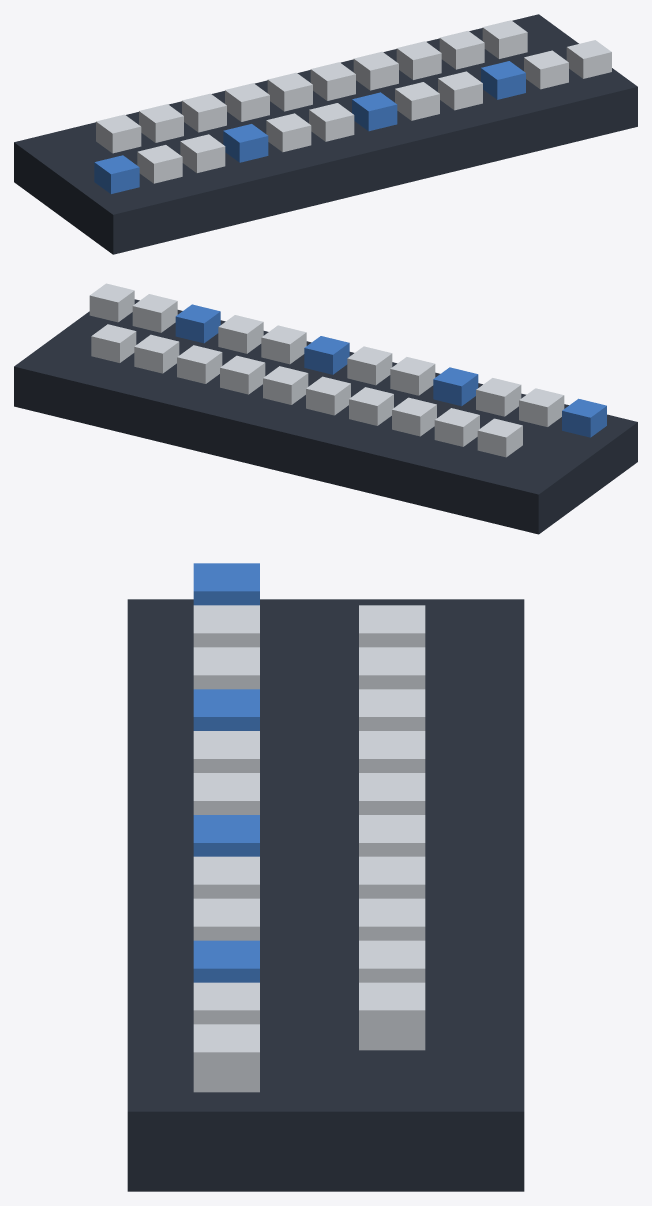
File: keyboard.glb
3 renders of one model, top to bottom at view 1: azimuth 30°, elevation 25°; view 2: azimuth 150°, elevation 25°; view 3: azimuth 270°, elevation 25°, orthographic. The views are drawn at different scales.
Parts seen in each view (by area): view 1: keyboard base, key top 1, key bottom 1, key top 4, key top 2, key top 3, key top 5, key top 6, key top 7, key bottom 9, key bottom 10, key bottom 7 (+11 smaller); view 2: keyboard base, key bottom 1, key bottom 2, key bottom 10, key top 8, key top 10, key top 12, key top 5, key top 6, key top 7, key top 9, key top 11 (+11 smaller); view 3: keyboard base, key top 12, key bottom 10, key top 1, key top 2, key top 3, key top 8, key top 9, key top 10, key bottom 1, key bottom 2, key bottom 7 (+11 smaller).
Boxes of the visible parts, x1,y1,x2,y2 form: keyboard base: [14, 14, 637, 254]; key top 1: [94, 155, 139, 193]; key bottom 1: [96, 114, 141, 153]; key top 4: [223, 124, 268, 162]; key top 2: [137, 145, 182, 183]; key top 3: [180, 134, 225, 172]; key top 5: [266, 113, 311, 152]; key top 6: [309, 103, 354, 141]; key top 7: [352, 92, 397, 131]; key bottom 9: [439, 31, 484, 69]; key bottom 10: [482, 20, 527, 58]; key bottom 7: [353, 51, 398, 90]; keyboard base: [14, 299, 637, 534]; key bottom 1: [477, 418, 522, 457]; key bottom 2: [434, 408, 479, 446]; key bottom 10: [91, 324, 136, 362]; key top 8: [261, 325, 306, 364]; key top 10: [175, 304, 220, 343]; key top 12: [89, 283, 134, 322]; key top 5: [390, 357, 435, 395]; key top 6: [347, 346, 392, 385]; key top 7: [304, 336, 349, 374]; key top 9: [218, 315, 263, 353]; key top 11: [132, 294, 177, 332]; keyboard base: [127, 599, 524, 1191]; key top 12: [193, 1024, 259, 1092]; key bottom 10: [359, 982, 425, 1050]; key top 1: [193, 563, 259, 605]; key top 2: [193, 605, 259, 647]; key top 3: [193, 647, 259, 689]; key top 8: [193, 856, 259, 898]; key top 9: [193, 898, 259, 940]; key top 10: [193, 940, 259, 982]; key bottom 1: [359, 605, 425, 647]; key bottom 2: [359, 647, 425, 689]; key bottom 7: [359, 856, 425, 898].
Size of the model in its own units: 2.2 by 0.26 by 0.72.
